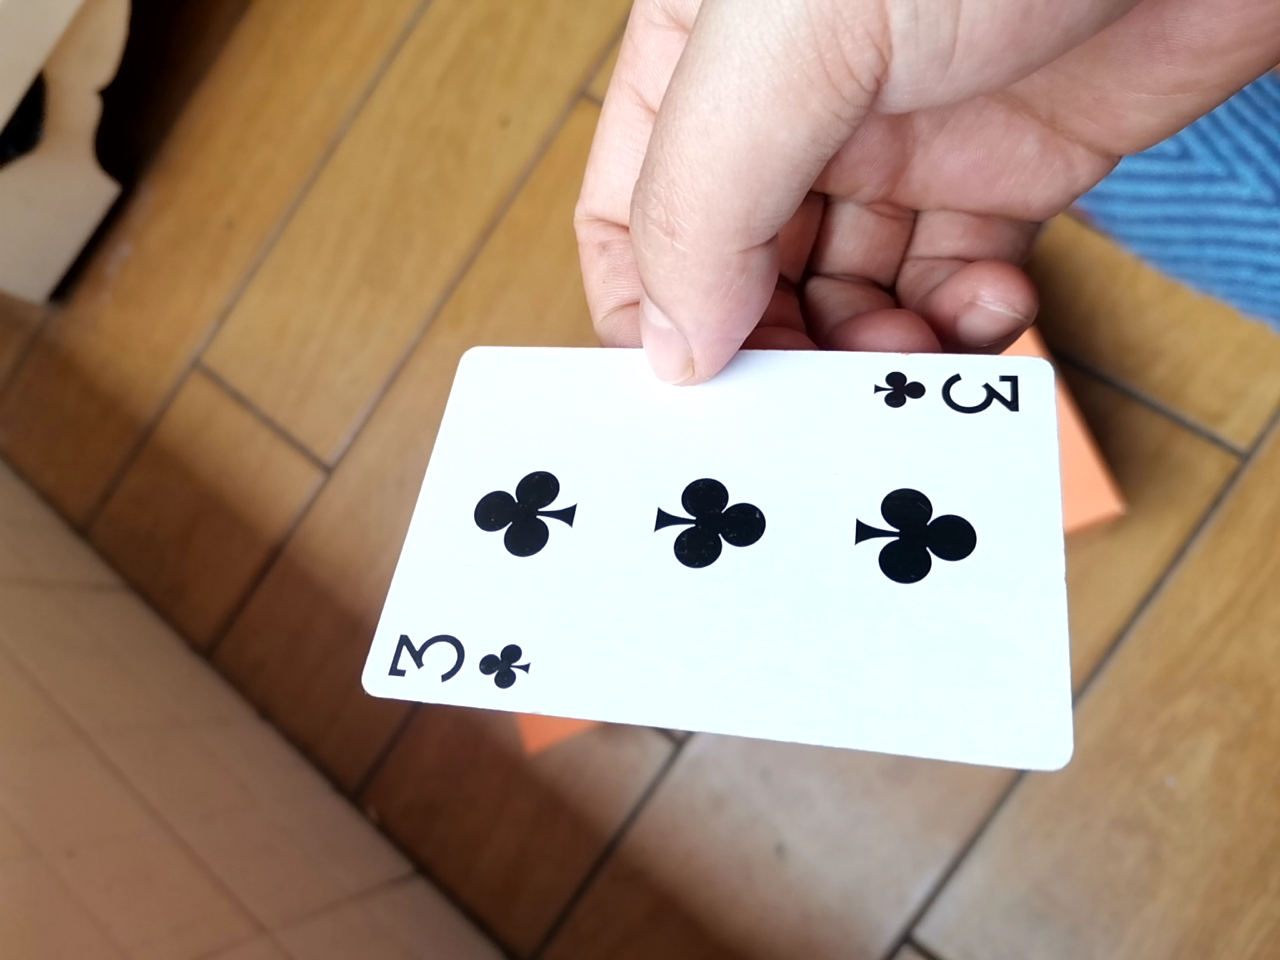mh 3: (359, 334, 1072, 783)
